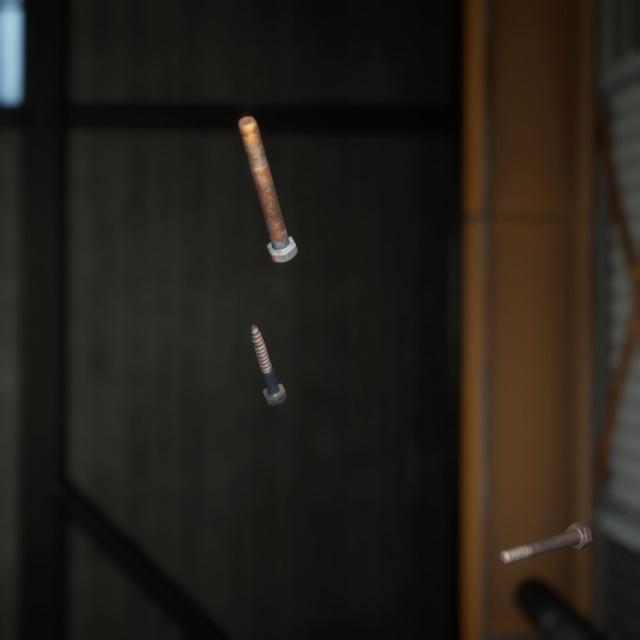bolt: (234, 96, 302, 252), (493, 494, 596, 546), (246, 300, 291, 390)
